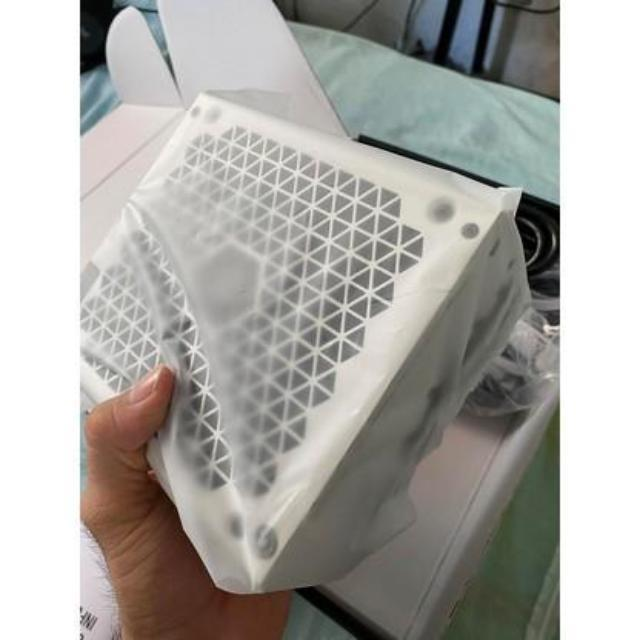PSU: (62, 89, 528, 582)
